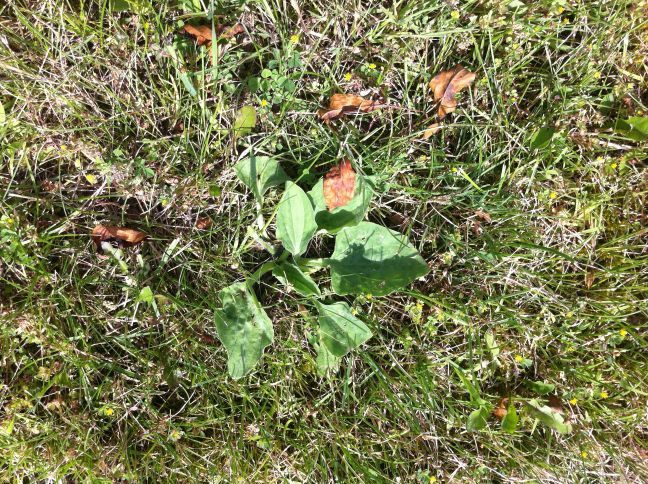weed1: (202, 150, 431, 382)
